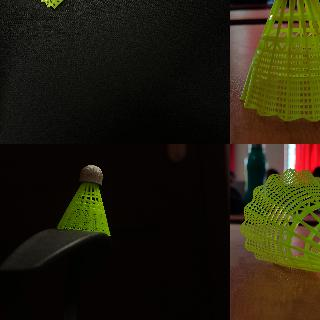shuttlecock: (240, 167, 319, 301), (240, 0, 319, 122), (56, 165, 110, 235)
